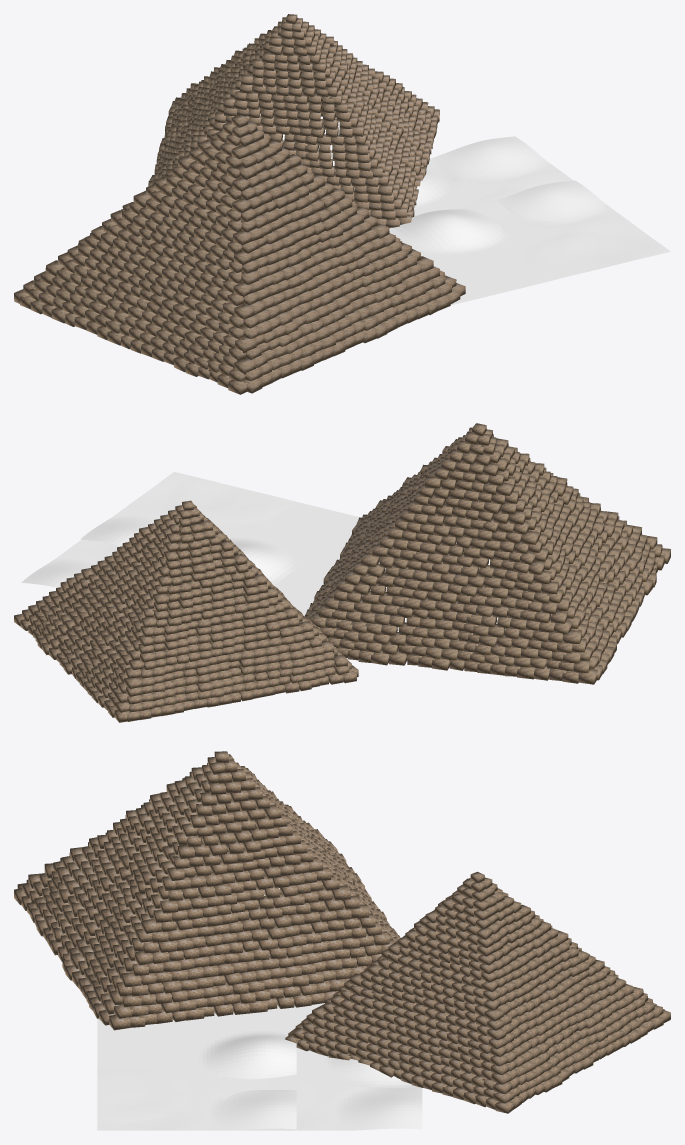
Rendered from EGYPT-transformed.glb.
The picture shows the model from 3 angles, top to bottom: view 1: azimuth 30°, elevation 25°; view 2: azimuth 150°, elevation 25°; view 3: azimuth 270°, elevation 25°; orthographic projection. The views are drawn at different scales.
Visible parts, largest first — view 1: Pyramid.001, Plane; view 2: Pyramid.001, Plane; view 3: Pyramid.001, Plane.
Part boxes in pixels (x1,y1,x2,y2): Pyramid.001: [14, 14, 465, 394]; Plane: [354, 136, 670, 305]; Pyramid.001: [14, 423, 670, 722]; Plane: [21, 472, 385, 616]; Pyramid.001: [14, 751, 670, 1113]; Plane: [97, 1003, 422, 1130].
Bounding box in the file's own units: 9.82 × 3.15 × 9.88.
Materials: 2 (1 with a texture image).
